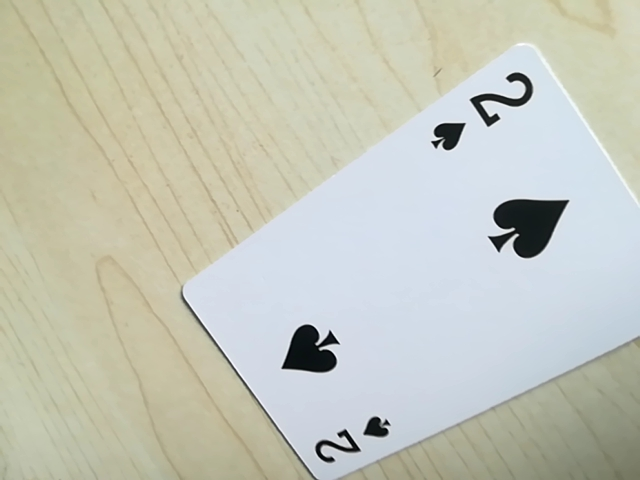ht 2: (425, 65, 540, 159), (297, 413, 394, 475)
